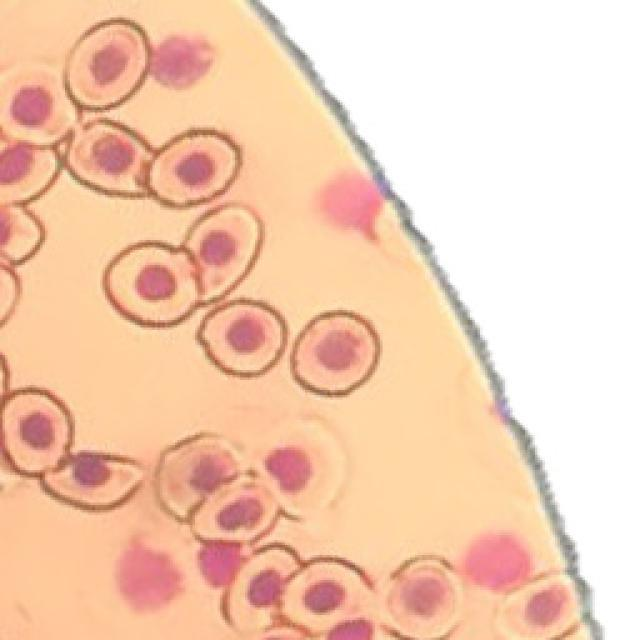RBC: (261, 419, 348, 516), (104, 242, 200, 326), (65, 19, 150, 109), (185, 205, 261, 302), (292, 311, 379, 395), (156, 434, 240, 521), (149, 130, 240, 206), (280, 559, 371, 635), (198, 300, 288, 376), (382, 556, 462, 640), (224, 545, 301, 632), (66, 120, 152, 196), (190, 474, 281, 543), (1, 389, 72, 475), (0, 65, 75, 145), (41, 451, 142, 509), (498, 574, 585, 640), (0, 136, 59, 204)
WBC: (119, 541, 180, 609), (464, 534, 532, 591), (151, 35, 212, 88), (199, 542, 241, 586), (328, 620, 372, 640)
